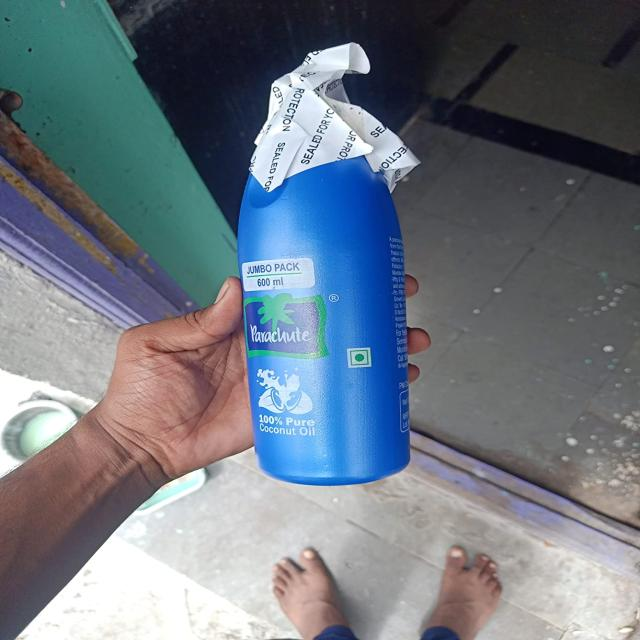parachute_oil: (228, 50, 424, 488)
